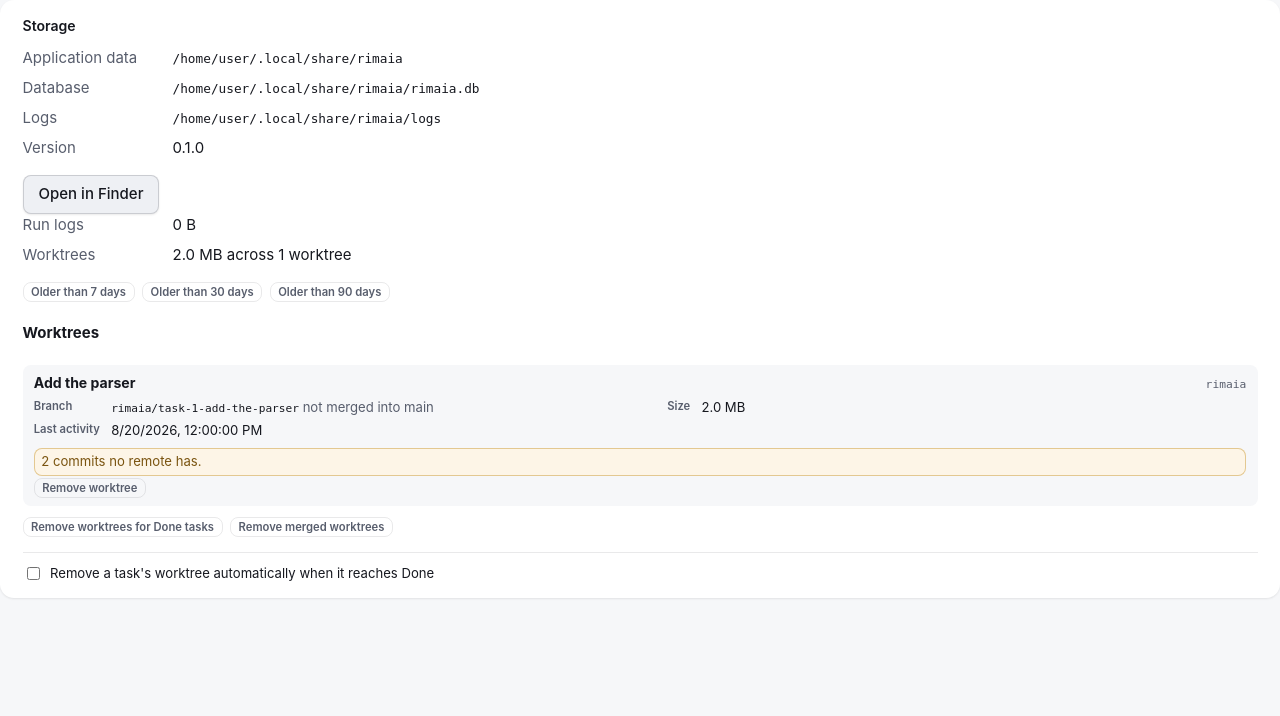
StorageSection › sends the separate confirmation when the user chooses to delete an unmerged branch
Click the button "Remove worktree" at (90,488), box [34,478,146,498]
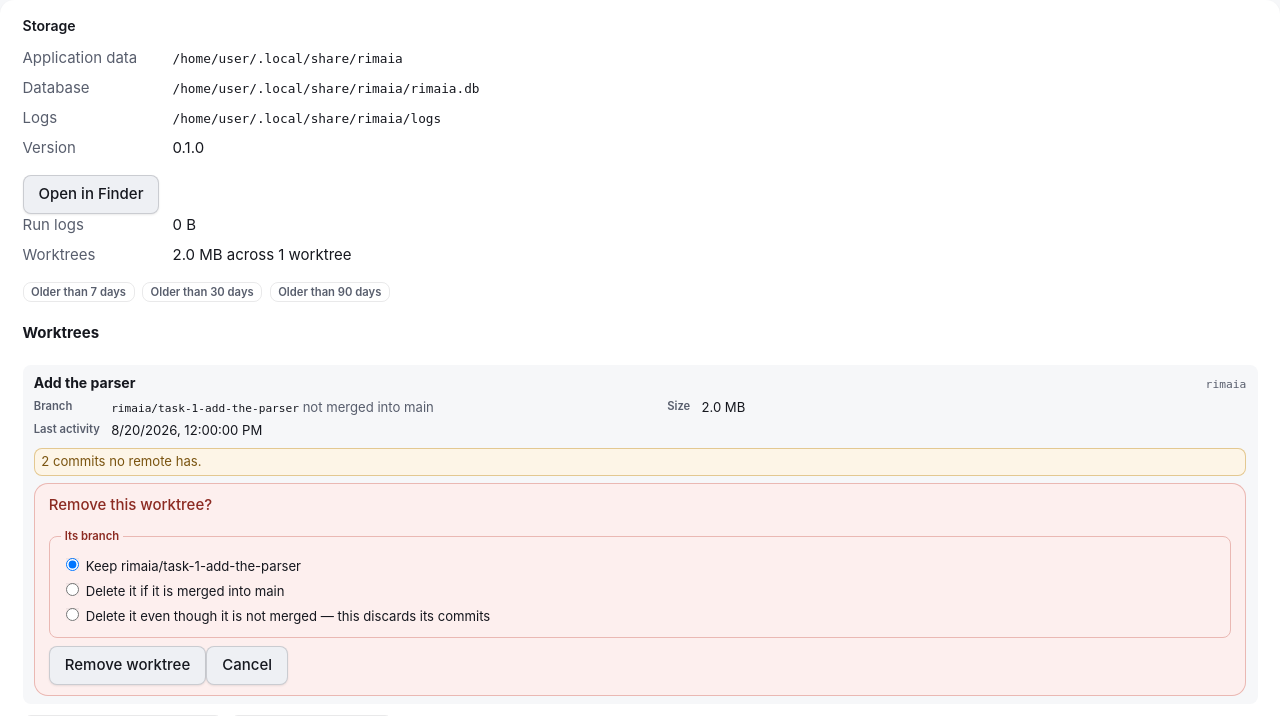
Click the radio button labelled "even though it is not merged" at (72,614), box [66,608,79,621]
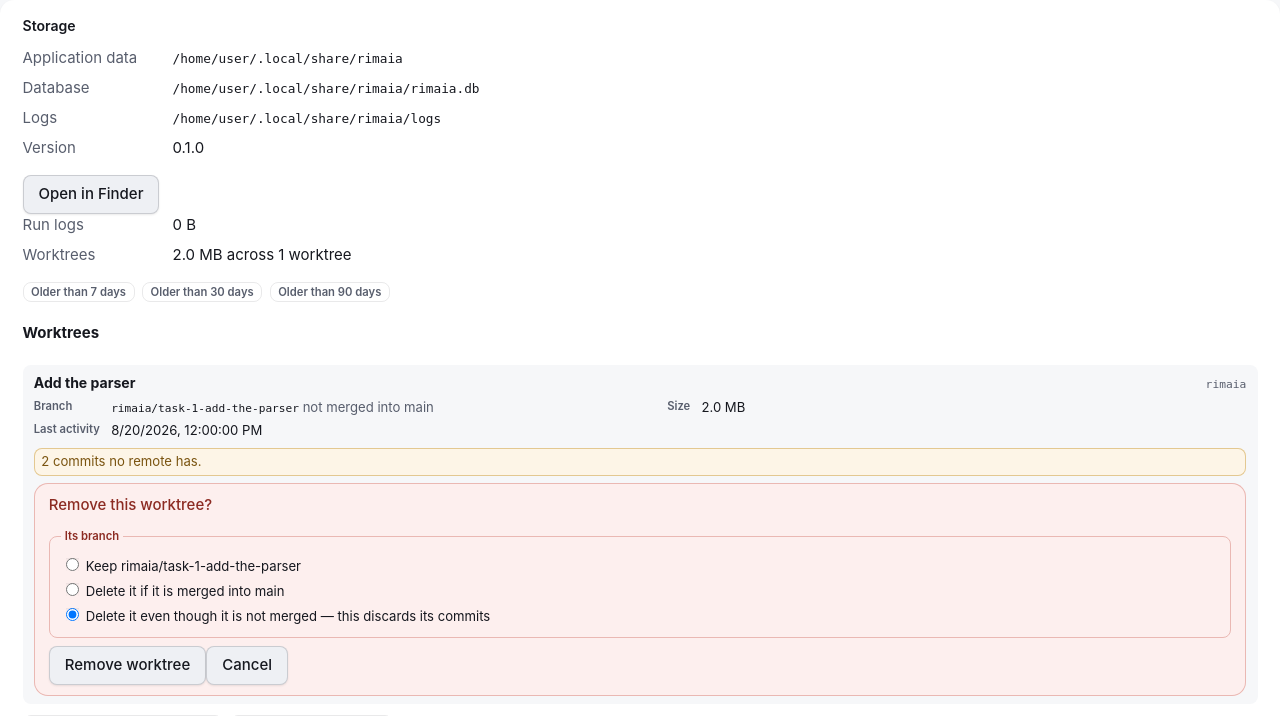
Submit the form from the button "Remove worktree", box [49,646,206,685]
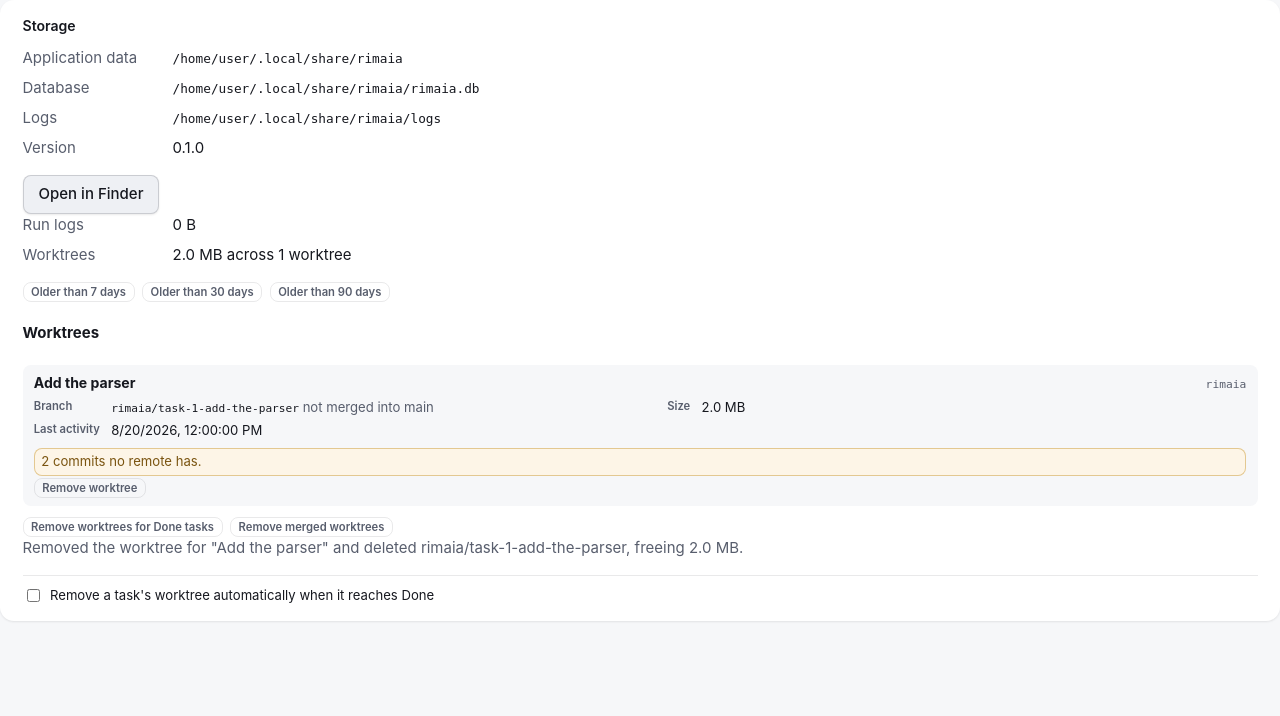
expect the text "deleted rimaia/task-1-add-the-parser" is shown: met, box [22,538,743,557]
